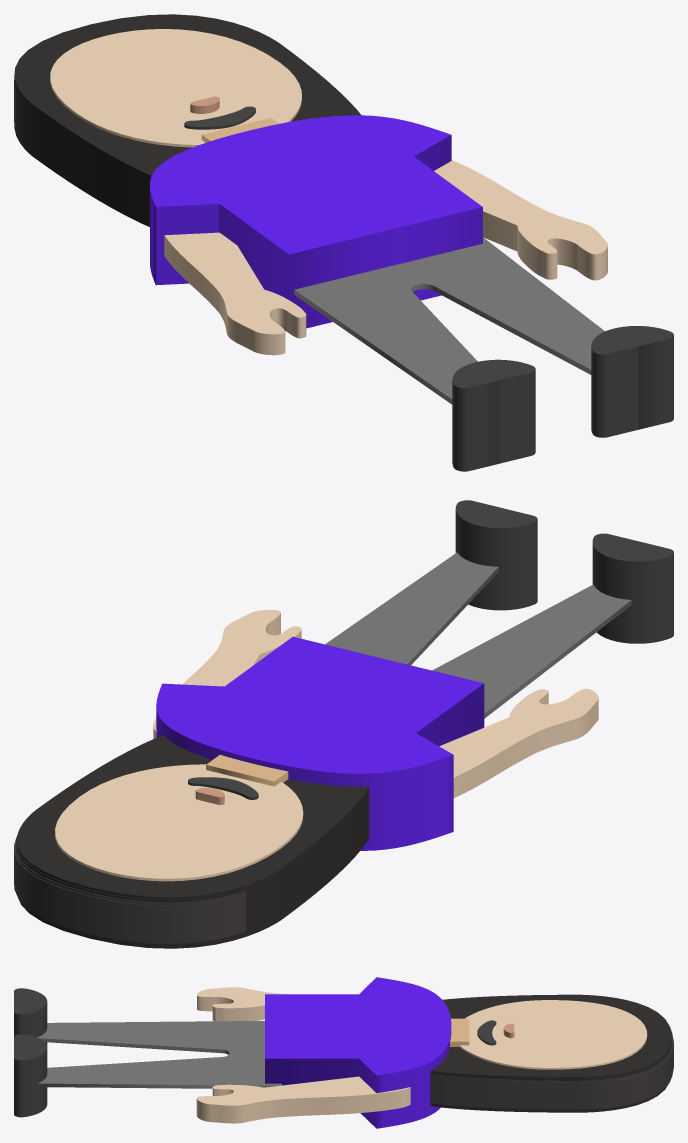
File: emoji_u1f9cd_1f3fb_200d_2640.glb
3 renders of one model, top to bottom at view 1: azimuth 30°, elevation 25°; view 2: azimuth 150°, elevation 25°; view 3: azimuth 270°, elevation 25°, orthographic. The views are drawn at different scales.
Visible parts, largest first — view 1: emoji_u1f9cd_1f3fb_200d_2640; view 2: emoji_u1f9cd_1f3fb_200d_2640; view 3: emoji_u1f9cd_1f3fb_200d_2640.
Boxes of the visible parts, x1,y1,x2,y2 form: emoji_u1f9cd_1f3fb_200d_2640: (14, 14, 673, 471); emoji_u1f9cd_1f3fb_200d_2640: (14, 500, 673, 948); emoji_u1f9cd_1f3fb_200d_2640: (14, 977, 673, 1128).
Size of the model in its own units: 0.0145 by 0.0032 by 0.0337.
